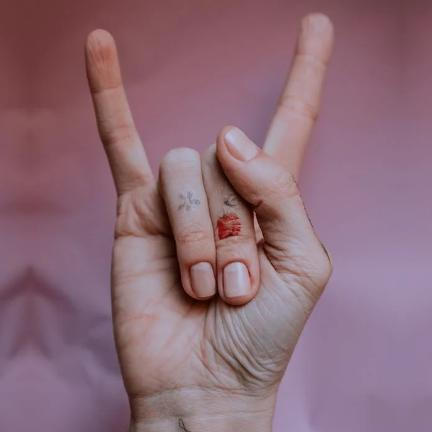Nail: (224, 127, 258, 161), (222, 262, 250, 298), (189, 262, 215, 298)
